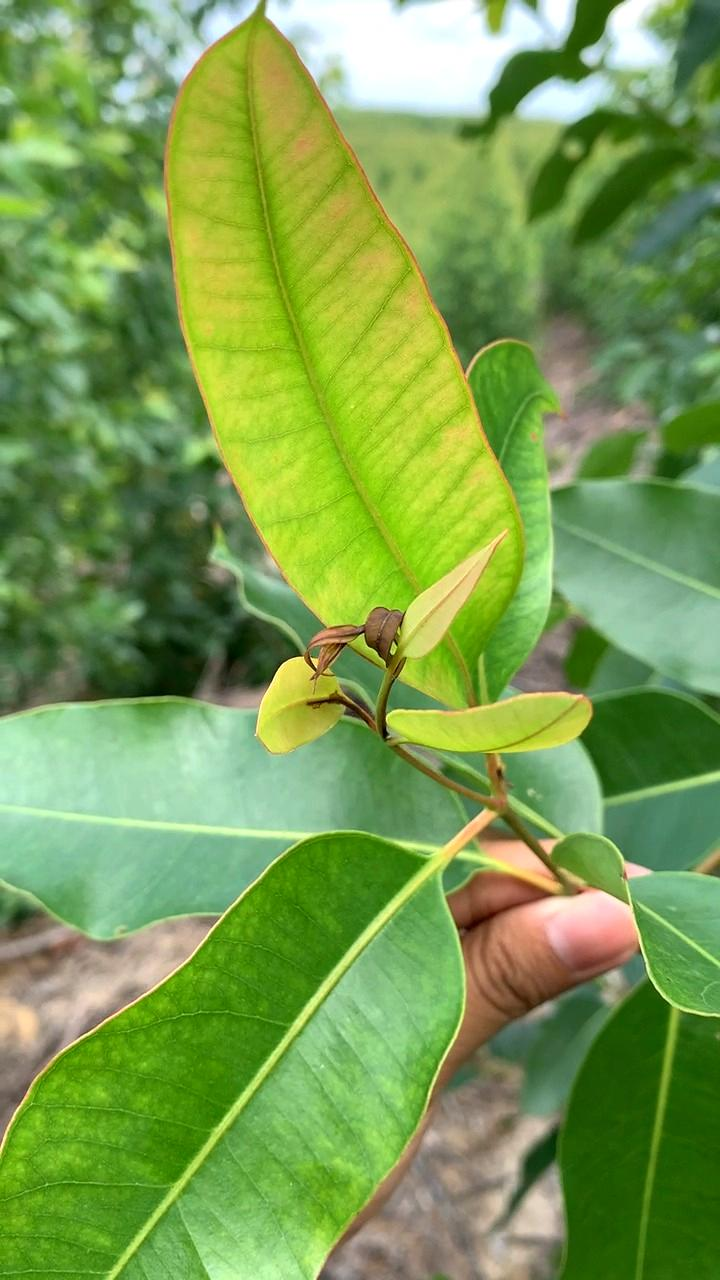Helopeltis-Withered Sprout: (296, 598, 427, 711)
